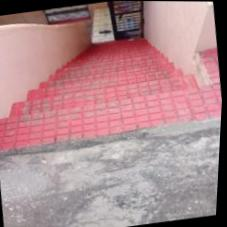Animal: (9, 49, 190, 134)
